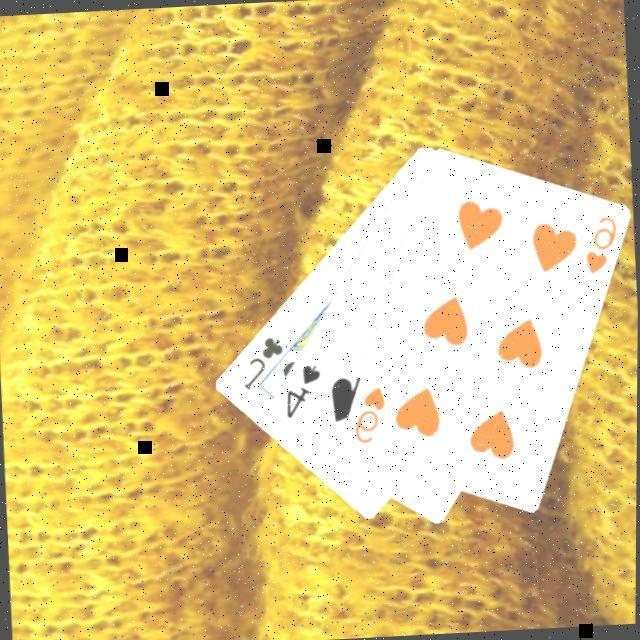4S: (278, 359, 323, 422)
6H: (578, 210, 620, 276), (347, 382, 388, 447)
JC: (236, 332, 286, 392)
